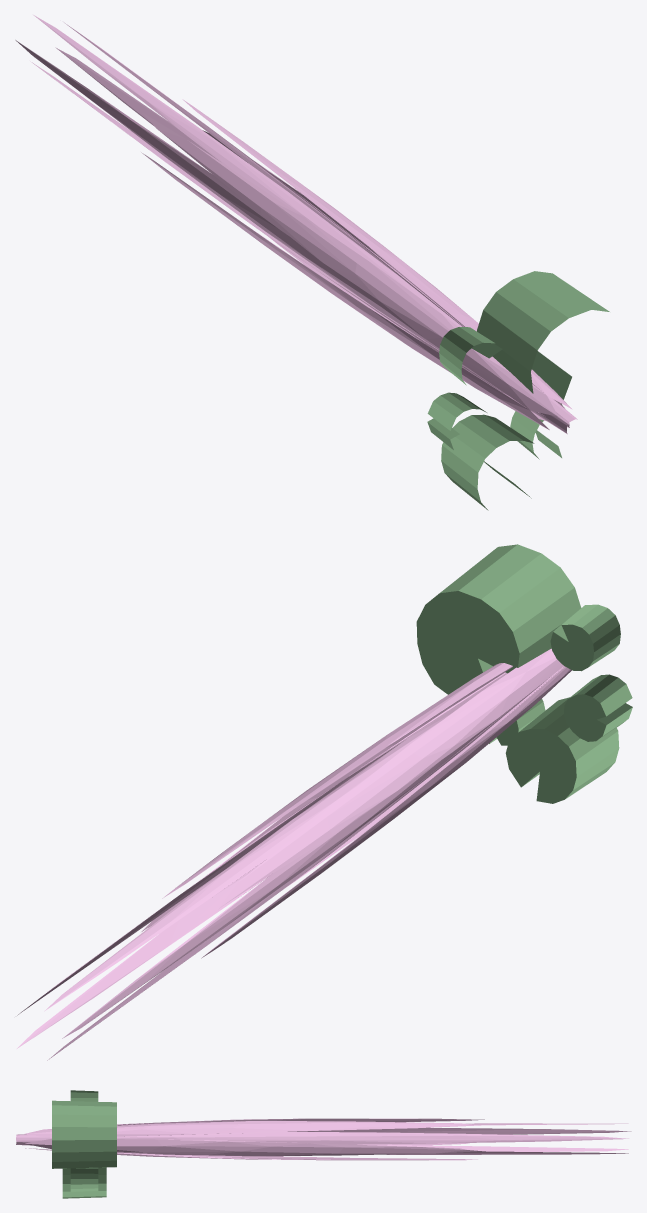
Rendered from s0_Water_flower_art_01.glb.
3 renders of one model, top to bottom at view 1: azimuth 30°, elevation 25°; view 2: azimuth 150°, elevation 25°; view 3: azimuth 270°, elevation 25°, orthographic. The views are drawn at different scales.
Visible parts, largest first — view 1: node_Water_flower_art; view 2: node_Water_flower_art; view 3: node_Water_flower_art.
Part boxes in pixels (box(x1,y1,x2,y2)): node_Water_flower_art: box(15, 15, 609, 510); node_Water_flower_art: box(17, 544, 632, 1060); node_Water_flower_art: box(16, 1090, 631, 1198).
Size of the model in its own units: 0.0805 by 0.0897 by 0.4511.
